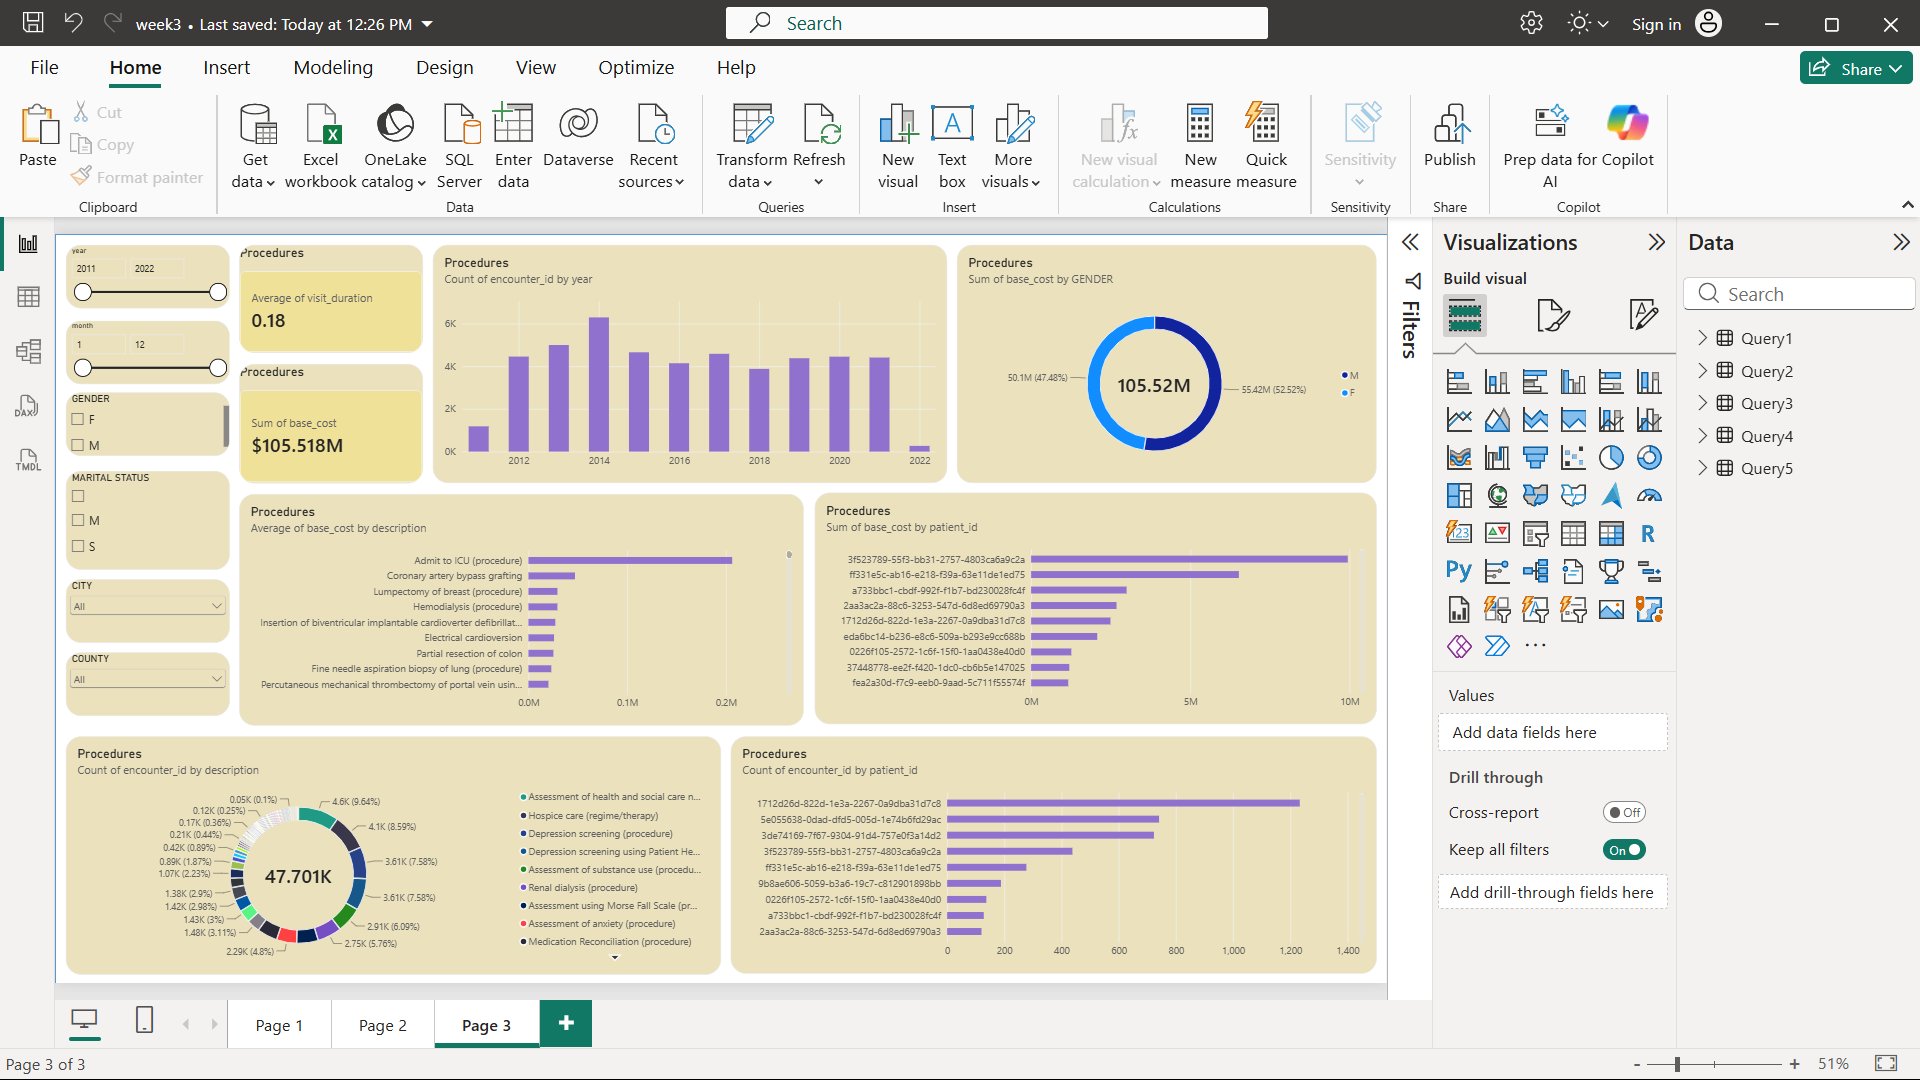

Layout of this report page (visuals, bound fields, positions):
{"tool":"powerbi","page":{"name":"Page 3","canvas":[1920,1080],"ordinal":2},"visuals":[{"type":"shape","box":[0,0,1920.9,1080.8],"z":0},{"type":"lineClusteredColumnComboChart","title":"Procedures","fields":{"Category":["Query5.year"],"Y":["CountNonNull(Query5.encounter_id)"]},"box":[544.6,15.6,741.7,343.5],"z":1000},{"type":"slicer","title":"Encounters","fields":{"Values":["Query5.year"]},"box":[15.6,15.6,236.2,91.7],"z":2000},{"type":"donutChart","title":"Procedures","fields":{"Category":["Query5.description"],"Y":["CountNonNull(Query5.encounter_id)"]},"box":[15.6,724.2,944.7,343.5],"z":3000},{"type":"cardVisual","title":"Procedures","fields":{"Data":["Avg(Query5.visit_duration)"]},"box":[265.5,15.6,265.5,156.2],"z":4000},{"type":"clusteredBarChart","title":"Procedures","fields":{"Category":["Query5.description"],"Y":["Avg(Query5.base_cost)"]},"box":[265.5,374.8,814,333.8],"z":4001},{"type":"cardVisual","title":"Procedures","fields":{"Data":["Sum(Query5.base_cost)"]},"box":[265.5,187.4,265.5,171.8],"z":4002},{"type":"slicer","title":"Encounters","fields":{"Values":["Query5.month"]},"box":[15.6,124.9,236.2,91.7],"z":4003},{"type":"slicer","title":"Encounters","fields":{"Values":["Query5.GENDER"]},"box":[15.6,228.4,236.2,91.7],"z":4004},{"type":"slicer","title":"Encounters","fields":{"Values":["Query5.MARITAL"]},"box":[15.6,341.6,236.2,142.5],"z":4005},{"type":"slicer","title":"Encounters","fields":{"Values":["Query5.CITY"]},"box":[15.6,497.7,236.2,91.7],"z":4006},{"type":"slicer","title":"Encounters","fields":{"Values":["Query5.COUNTY"]},"box":[15.6,603.1,236.2,91.7],"z":4007},{"type":"clusteredBarChart","title":"Procedures","fields":{"Category":["Query5.patient_id"],"Y":["Sum(Query5.base_cost)"]},"box":[1095,372.8,810.1,333.8],"z":4008},{"type":"clusteredBarChart","title":"Procedures","fields":{"Category":["Query5.patient_id"],"Y":["Count(Query5.encounter_id)"]},"box":[974,724.2,931.1,341.6],"z":4009},{"type":"donutChart","title":"Procedures","fields":{"Category":["Query5.GENDER"],"Y":["Sum(Query5.base_cost)"]},"box":[1300,15.6,605.1,343.5],"z":4010}]}

Visuals, with their boxes on the page's 1920x1080 design canvas (x1, y1, x2, y2). These are canvas units, not pixel positions in the 1920x1080 screenshot, which may show the page scaled, cropped or inside an application window:
shape: {"x1": 0, "y1": 0, "x2": 1921, "y2": 1081}
"Procedures" lineClusteredColumnComboChart: {"x1": 545, "y1": 16, "x2": 1286, "y2": 359}
"Encounters" slicer: {"x1": 16, "y1": 16, "x2": 252, "y2": 107}
"Procedures" donutChart: {"x1": 16, "y1": 724, "x2": 960, "y2": 1068}
"Procedures" cardVisual: {"x1": 266, "y1": 16, "x2": 531, "y2": 172}
"Procedures" clusteredBarChart: {"x1": 266, "y1": 375, "x2": 1080, "y2": 709}
"Procedures" cardVisual: {"x1": 266, "y1": 187, "x2": 531, "y2": 359}
"Encounters" slicer: {"x1": 16, "y1": 125, "x2": 252, "y2": 217}
"Encounters" slicer: {"x1": 16, "y1": 228, "x2": 252, "y2": 320}
"Encounters" slicer: {"x1": 16, "y1": 342, "x2": 252, "y2": 484}
"Encounters" slicer: {"x1": 16, "y1": 498, "x2": 252, "y2": 589}
"Encounters" slicer: {"x1": 16, "y1": 603, "x2": 252, "y2": 695}
"Procedures" clusteredBarChart: {"x1": 1095, "y1": 373, "x2": 1905, "y2": 707}
"Procedures" clusteredBarChart: {"x1": 974, "y1": 724, "x2": 1905, "y2": 1066}
"Procedures" donutChart: {"x1": 1300, "y1": 16, "x2": 1905, "y2": 359}
